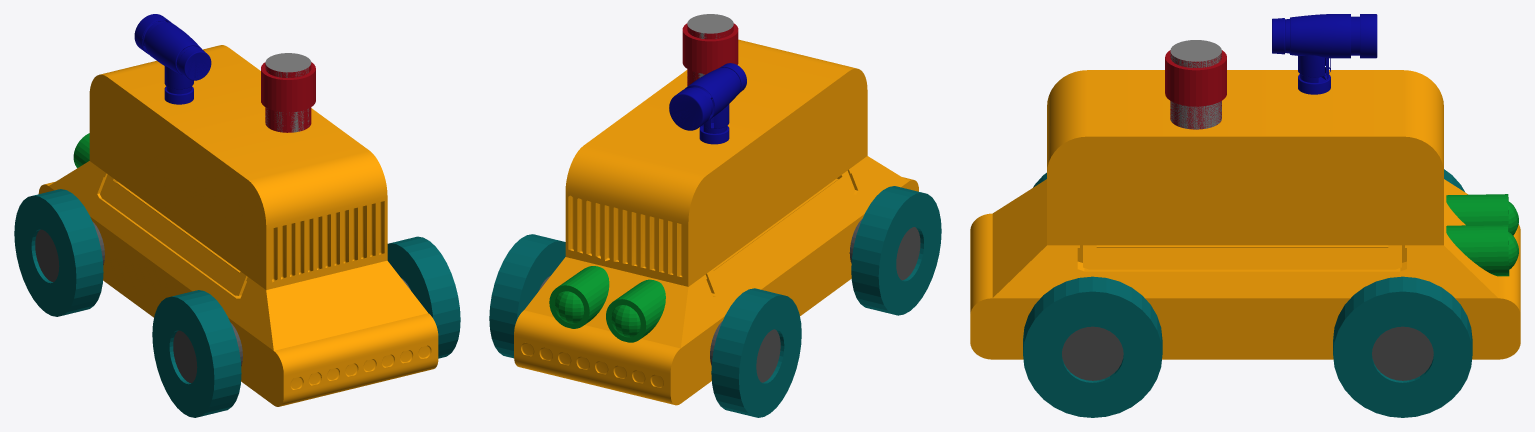
File: Rover.fbx
3 renders of one model, left to right at view 1: azimuth 30°, elevation 25°; view 2: azimuth 150°, elevation 25°; view 3: azimuth 270°, elevation 25°, orthographic. The views are drawn at different scales.
Parts seen in each view (by area): view 1: MilitaryRoboticRoverBody, BackWheels, FrontWheels, RoverLiDAR, RoverCamera, BackWheelAxis, FrontWheelAxis, RoverLights; view 2: MilitaryRoboticRoverBody, FrontWheels, BackWheels, RoverLights, RoverCamera, RoverLiDAR, FrontWheelAxis, BackWheelAxis; view 3: MilitaryRoboticRoverBody, FrontWheels, BackWheels, RoverCamera, RoverLiDAR, RoverLights, BackWheelAxis, FrontWheelAxis.
Part boxes in pixels (left/top/right/bottom): MilitaryRoboticRoverBody: left=38, top=45, right=438, bottom=406; BackWheels: left=152, top=236, right=460, bottom=417; FrontWheels: left=14, top=189, right=103, bottom=316; RoverLiDAR: left=261, top=53, right=315, bottom=132; RoverCamera: left=134, top=14, right=211, bottom=104; BackWheelAxis: left=173, top=278, right=410, bottom=383; FrontWheelAxis: left=35, top=221, right=104, bottom=282; RoverLights: left=73, top=133, right=89, bottom=167; MilitaryRoboticRoverBody: left=514, top=39, right=918, bottom=405; FrontWheels: left=489, top=234, right=801, bottom=417; BackWheels: left=851, top=186, right=941, bottom=315; RoverLights: left=549, top=266, right=665, bottom=342; RoverCamera: left=669, top=63, right=746, bottom=144; RoverLiDAR: left=682, top=14, right=738, bottom=86; FrontWheelAxis: left=538, top=275, right=780, bottom=382; BackWheelAxis: left=849, top=219, right=920, bottom=280; MilitaryRoboticRoverBody: left=970, top=70, right=1520, bottom=359; FrontWheels: left=1333, top=169, right=1472, bottom=417; BackWheels: left=1023, top=172, right=1162, bottom=417; RoverCamera: left=1272, top=14, right=1377, bottom=94; RoverLiDAR: left=1165, top=40, right=1226, bottom=129; RoverLights: left=1446, top=194, right=1518, bottom=276; BackWheelAxis: left=1062, top=326, right=1123, bottom=380; FrontWheelAxis: left=1372, top=326, right=1433, bottom=380.
Bounding box in the file's own units: 124 × 136 × 213.
